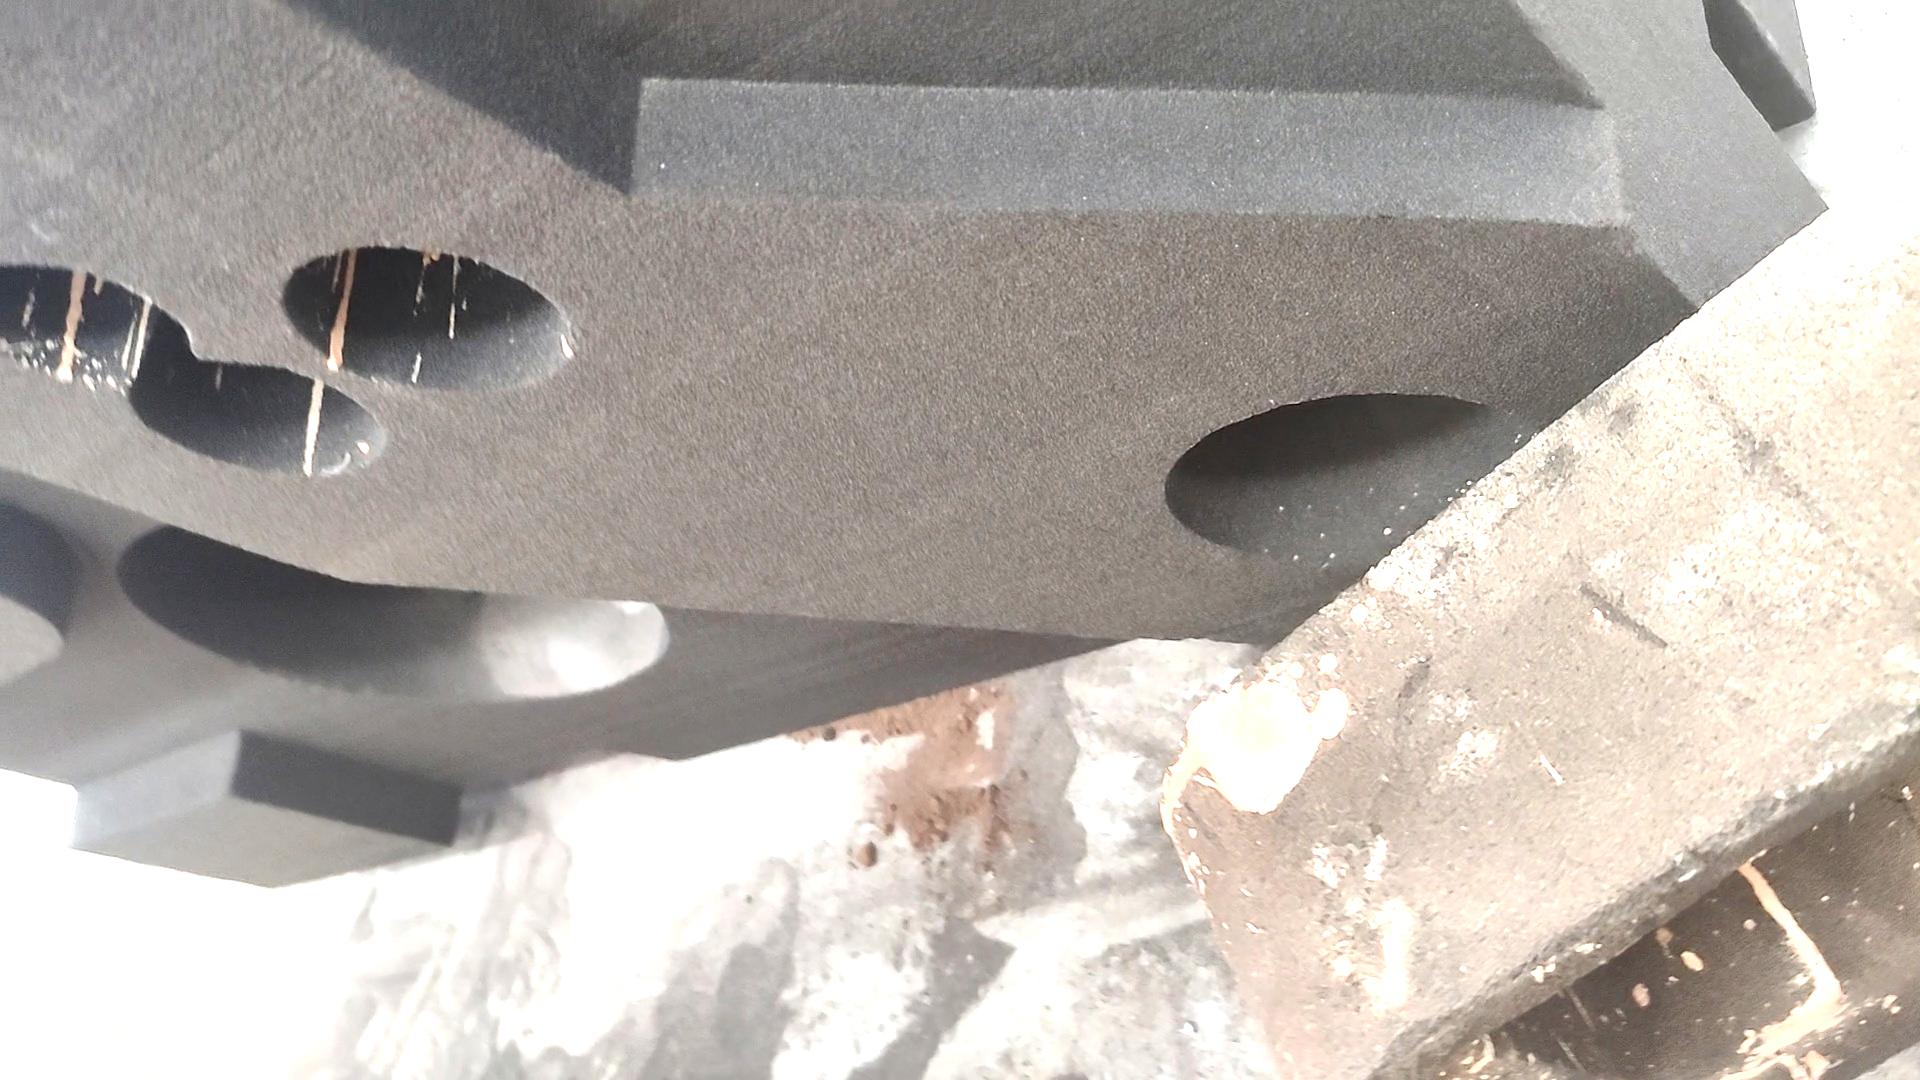pouring hole: (1163, 394, 1534, 563)
